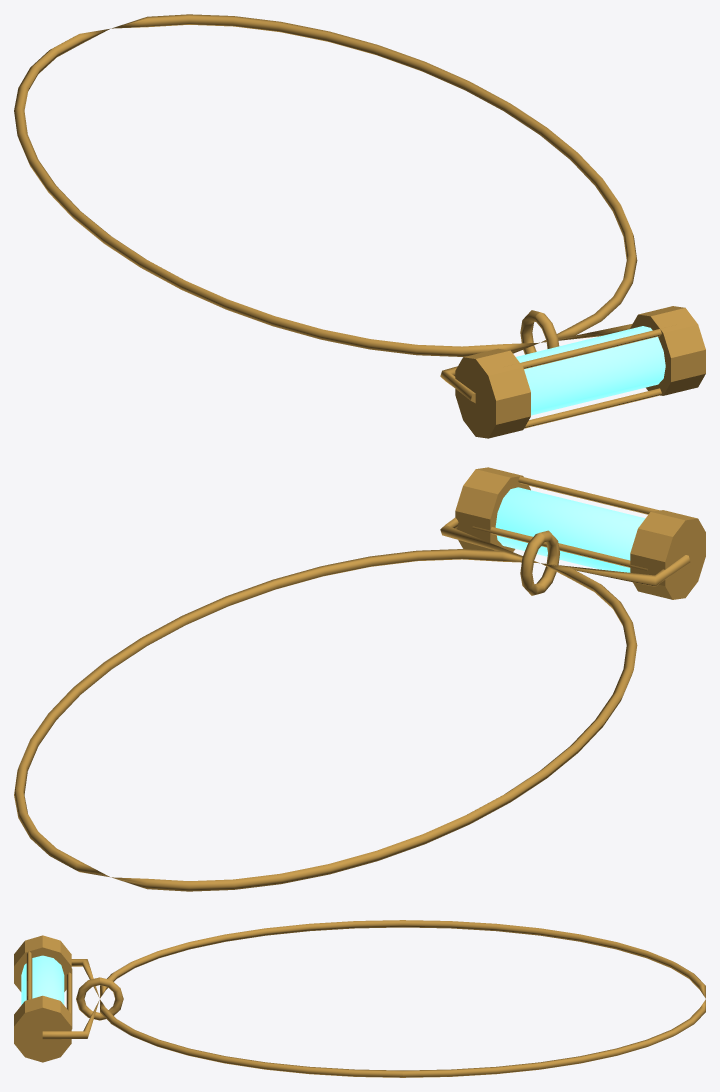
File: amulet_aetheric_conduit.glb
3 views of the same model, one above another, from view 1: azimuth 30°, elevation 25°; view 2: azimuth 150°, elevation 25°; view 3: azimuth 270°, elevation 25° (orthographic). The views are drawn at different scales.
Visible parts, largest first — view 1: Amulet_AethericConduit_Brass, Amulet_AethericConduit_Glow_aetheric; view 2: Amulet_AethericConduit_Brass, Amulet_AethericConduit_Glow_aetheric; view 3: Amulet_AethericConduit_Brass, Amulet_AethericConduit_Glow_aetheric.
Part boxes in pixels (bbox=[...]): Amulet_AethericConduit_Brass: bbox=[14, 14, 705, 438]; Amulet_AethericConduit_Glow_aetheric: bbox=[516, 326, 665, 415]; Amulet_AethericConduit_Brass: bbox=[14, 467, 705, 891]; Amulet_AethericConduit_Glow_aetheric: bbox=[495, 487, 645, 572]; Amulet_AethericConduit_Brass: bbox=[14, 920, 705, 1077]; Amulet_AethericConduit_Glow_aetheric: bbox=[21, 955, 64, 1004].
Size of the model in its own units: 0.1021 by 0.017 by 0.1941.
